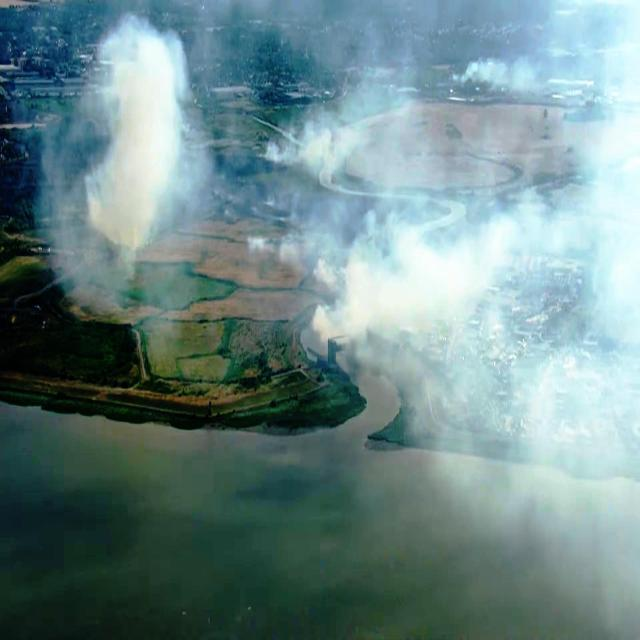Smoke: (248, 0, 640, 640), (11, 8, 240, 292)
